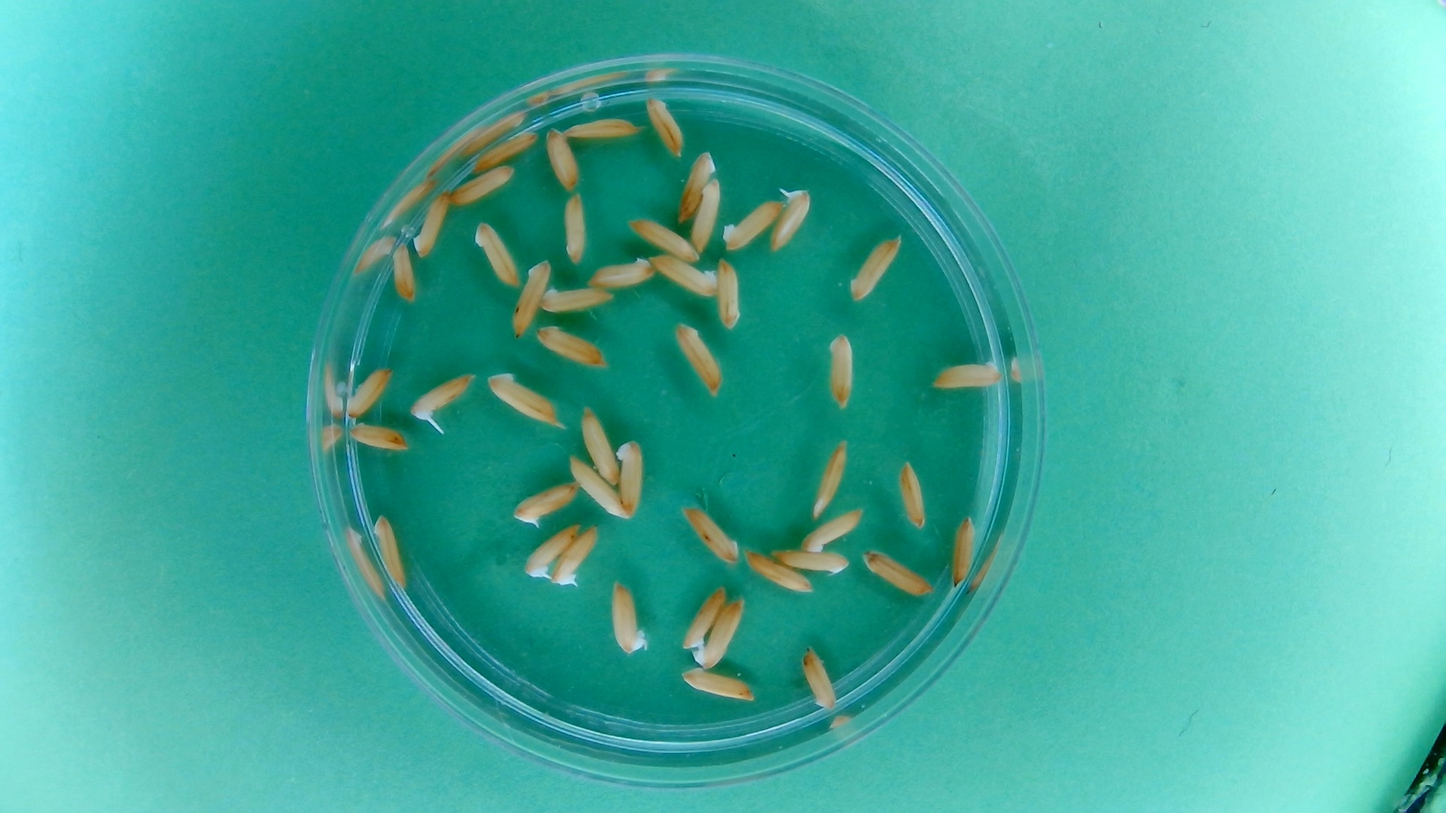no: (485, 370, 560, 429), (847, 232, 905, 306), (567, 452, 629, 520), (673, 320, 725, 399), (680, 501, 742, 565), (694, 598, 748, 671), (860, 548, 936, 598), (508, 257, 552, 340), (719, 197, 783, 254), (533, 323, 609, 370), (626, 215, 700, 263), (579, 403, 621, 486), (470, 219, 520, 288), (468, 126, 541, 173), (742, 547, 814, 594), (809, 438, 850, 520), (368, 512, 410, 592), (646, 253, 718, 299), (674, 148, 717, 225), (679, 582, 728, 649), (607, 577, 648, 656), (342, 361, 395, 421), (446, 163, 518, 207), (411, 187, 454, 260), (800, 507, 865, 555), (642, 93, 687, 160), (929, 355, 1006, 394), (678, 666, 756, 703), (822, 330, 858, 410), (542, 123, 581, 193), (689, 178, 724, 256), (799, 643, 839, 711), (768, 544, 852, 576), (615, 439, 647, 519), (586, 254, 657, 290), (895, 458, 929, 530), (713, 255, 745, 331), (538, 284, 615, 315), (345, 421, 411, 456), (947, 513, 977, 588), (560, 191, 590, 265), (561, 114, 640, 142), (387, 239, 419, 304)
yes: (410, 371, 475, 419), (512, 480, 579, 526), (551, 524, 599, 587), (770, 184, 813, 253), (528, 527, 574, 577)
